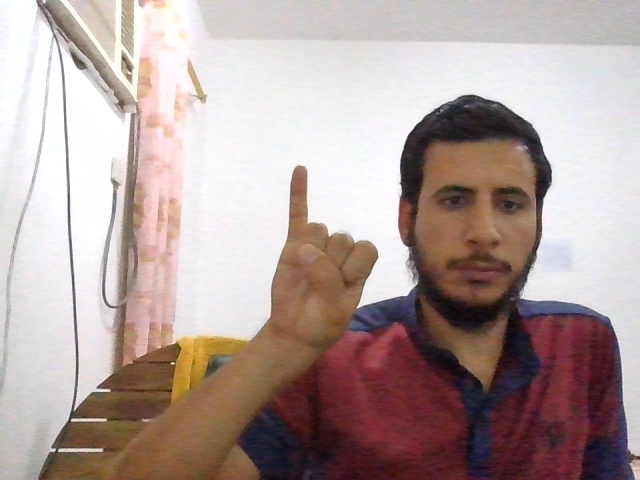One: (271, 166, 378, 345)
